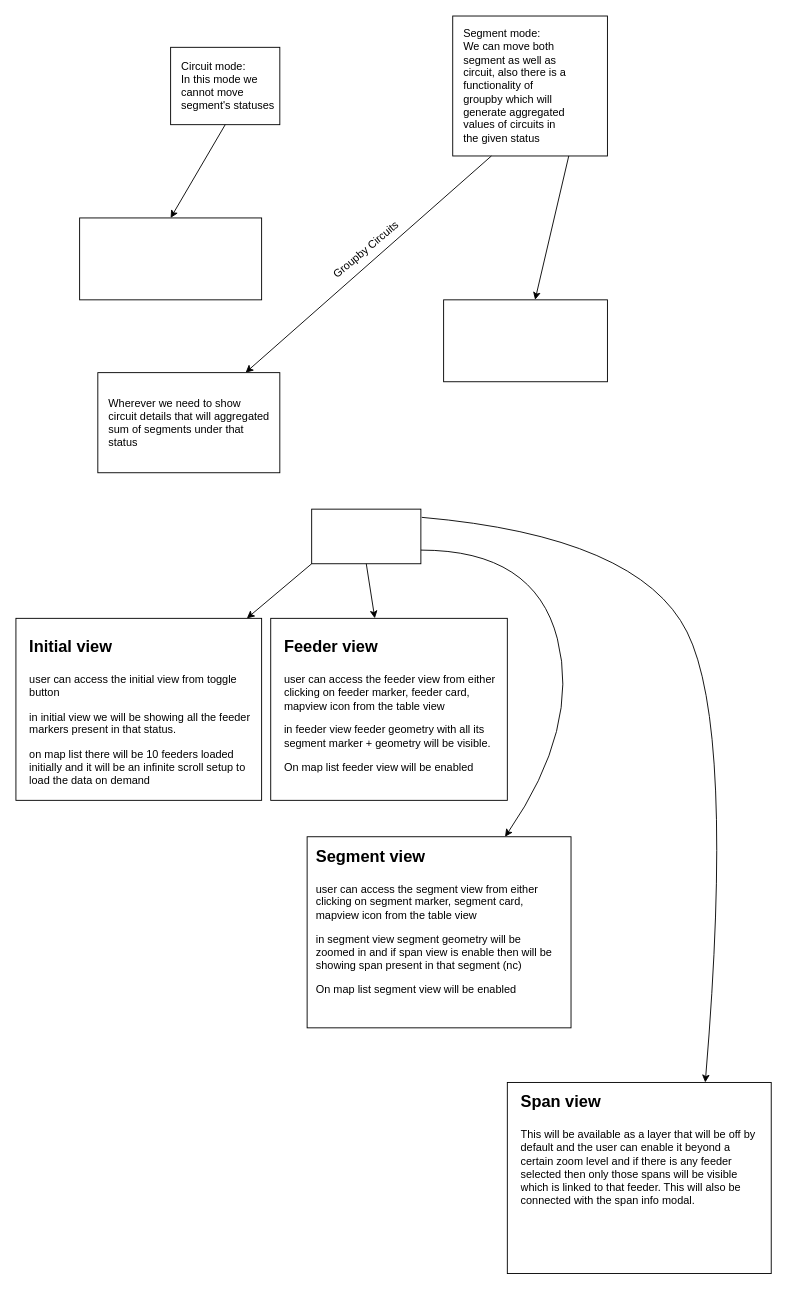
Image size: 787x1289. Some labels were removed from this diagram. The shapes that lost their labels are listed below. From the top down, each one's centre as x and y in pixels, then its label:
At (x=170, y=258): "Update status CTAs will be removed from everywhere".
At (x=525, y=340): "this segment instance will be different from that of circuit mode".
At (x=366, y=536): "Map View".
